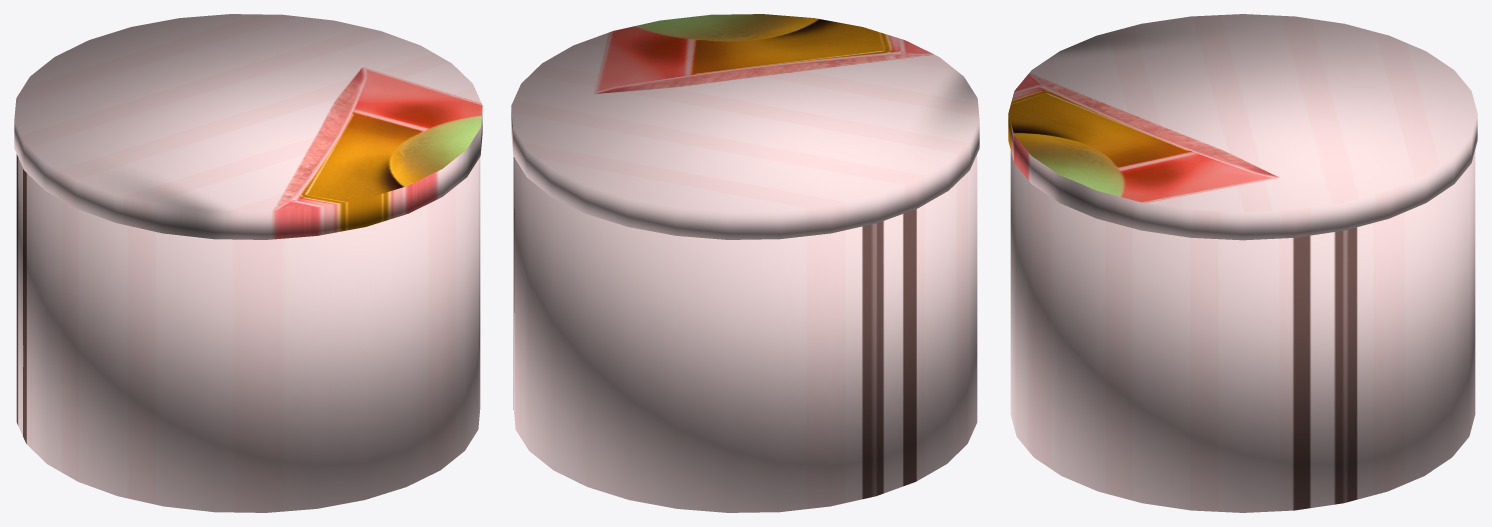
The model's file is prop_apple_entrement.glb.
The picture shows the model from 3 angles, left to right: view 1: azimuth 30°, elevation 25°; view 2: azimuth 150°, elevation 25°; view 3: azimuth 270°, elevation 25°; orthographic projection.
Visible parts, largest first — view 1: prop_apple_entrement; view 2: prop_apple_entrement; view 3: prop_apple_entrement.
Boxes of the visible parts, x1,y1,x2,y2 form: prop_apple_entrement: (14, 14, 482, 512); prop_apple_entrement: (511, 14, 979, 512); prop_apple_entrement: (1008, 14, 1477, 512).
Size of the model in its own units: 0.1212 by 0.086 by 0.1212.
1 material, 1 textured.
